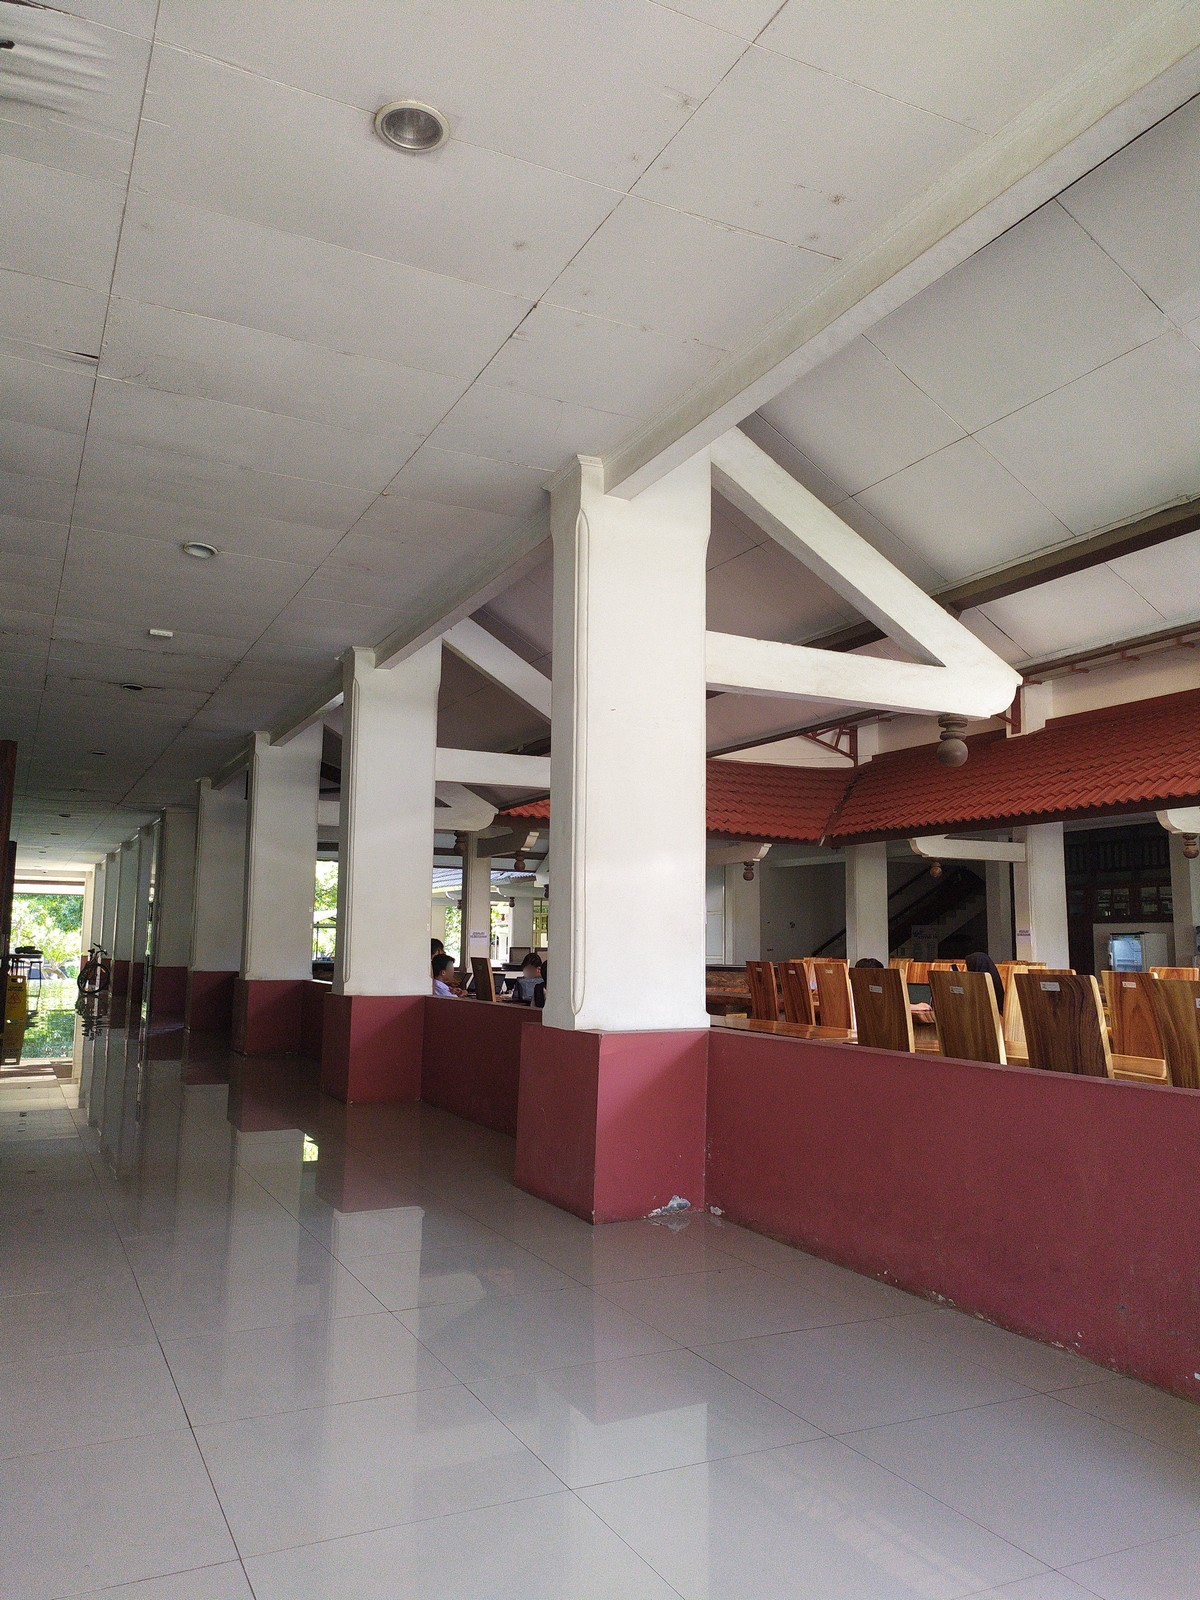concrete beam: (696, 629, 925, 731)
concrete column: (536, 446, 724, 1038), (330, 639, 447, 1002), (234, 721, 325, 981)
